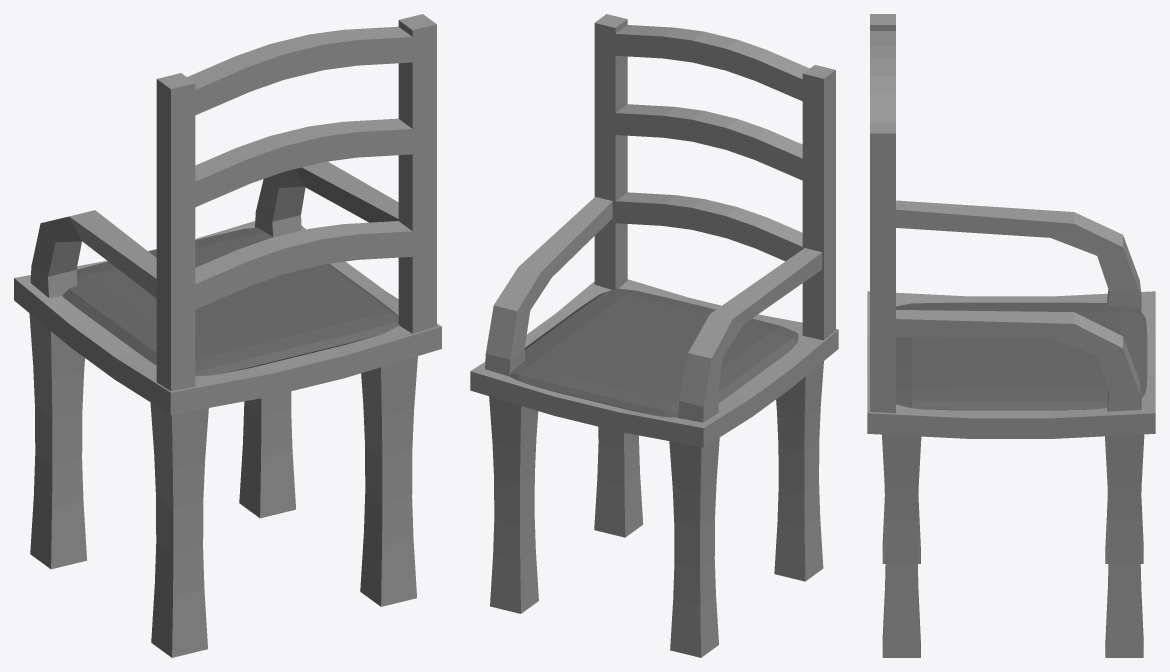
File: Chair#2Model.fbx
3 views of the same model, side by side, from view 1: azimuth 30°, elevation 25°; view 2: azimuth 150°, elevation 25°; view 3: azimuth 270°, elevation 25° (orthographic). The views are drawn at different scales.
Visible parts, largest first — view 1: Chair#2Model; view 2: Chair#2Model; view 3: Chair#2Model.
Boxes of the visible parts, box(x1,y1,x2,y2) form: Chair#2Model: box(14, 14, 441, 657); Chair#2Model: box(470, 14, 838, 657); Chair#2Model: box(867, 14, 1155, 657).
Size of the model in its own units: 74.47 by 153 by 74.52.
